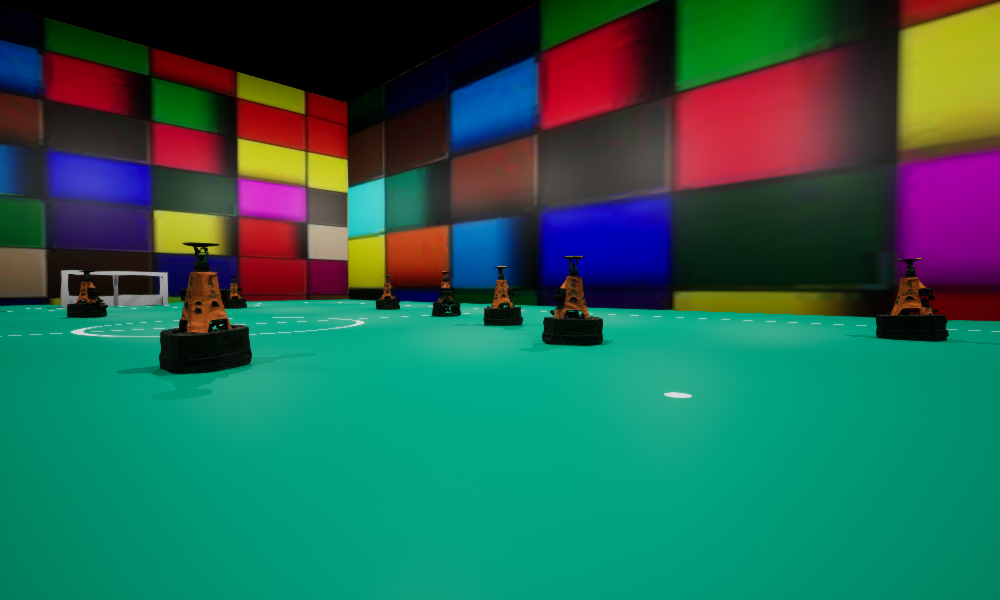o: (159, 242, 251, 373), (876, 258, 948, 341), (542, 256, 602, 345), (483, 266, 522, 325), (67, 271, 107, 317), (432, 271, 460, 316), (376, 275, 399, 309), (222, 276, 246, 308)
